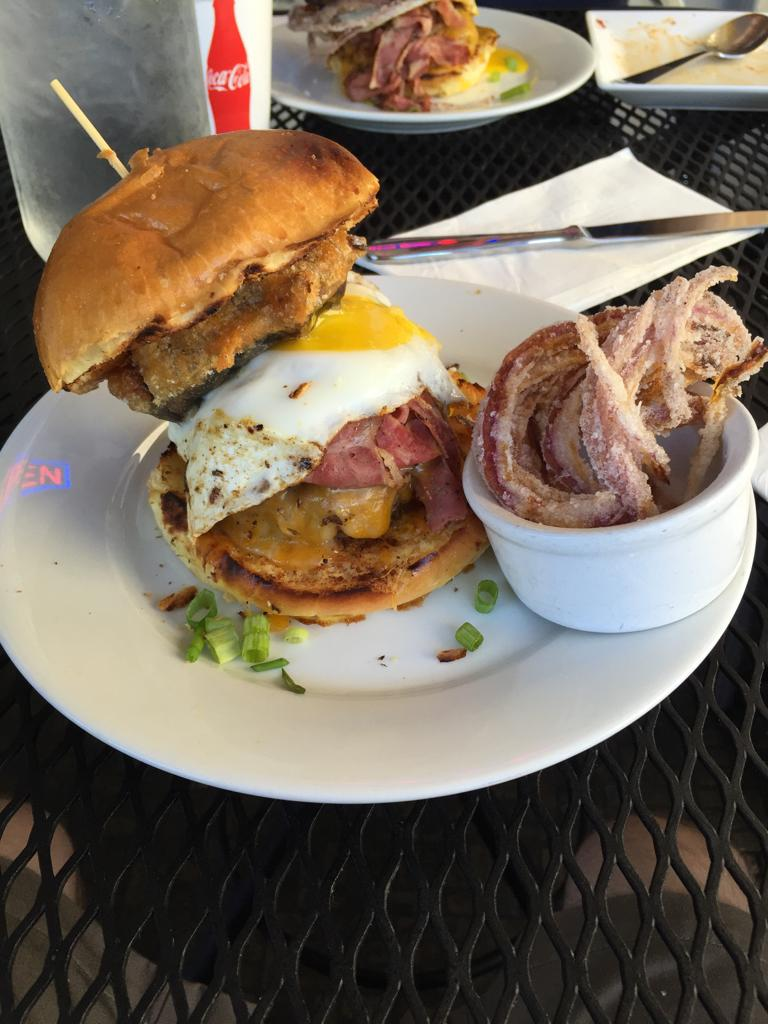fried egg: (195, 292, 442, 430)
slice of bread: (44, 120, 373, 361), (155, 530, 485, 635)
